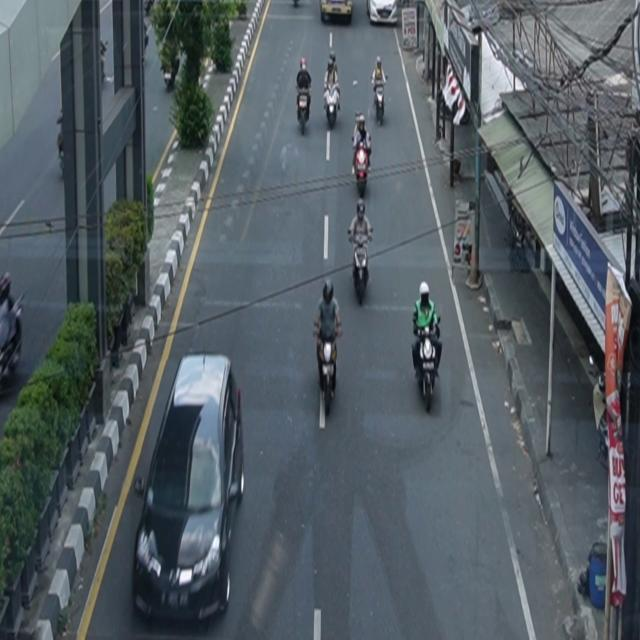car: (133, 353, 246, 625), (367, 1, 398, 26), (321, 1, 354, 24)
